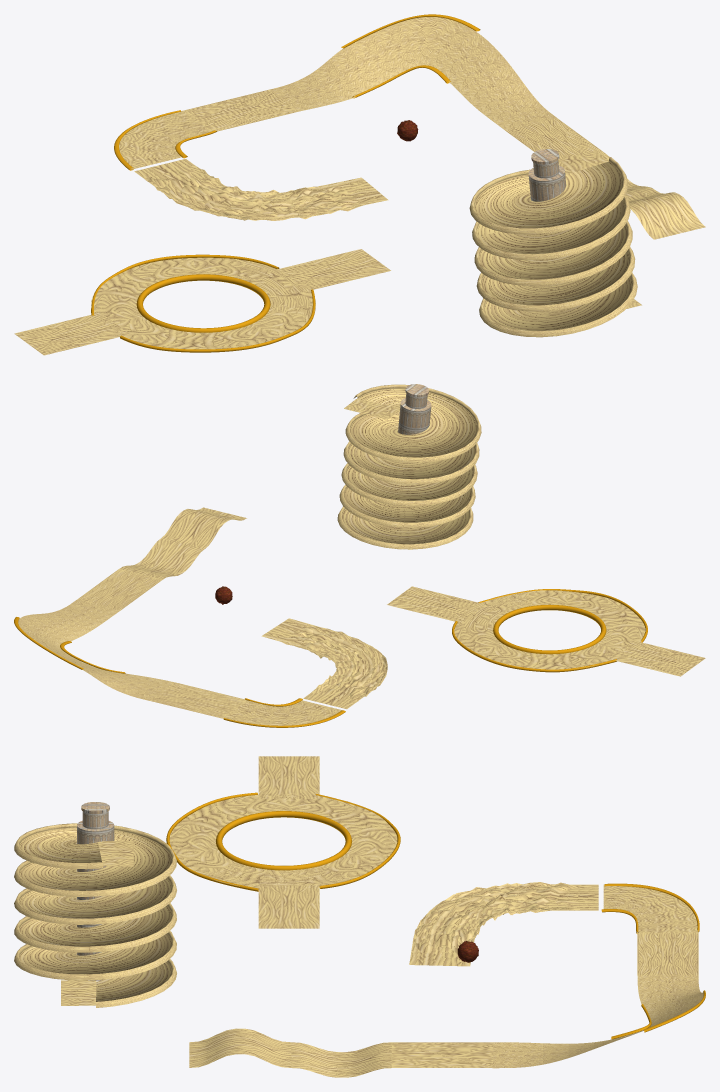
The model's file is TileSetPista.fbx.
3 views of the same model, one above another, from view 1: azimuth 30°, elevation 25°; view 2: azimuth 150°, elevation 25°; view 3: azimuth 270°, elevation 25° (orthographic). The views are drawn at different scales.
Parts seen in each view (by area): view 1: CurvaDePisaa, Rotunda, CurvaAcentuada, EstradaReta1.001, CurvaNormal, EstradaReta2, CurvaSinosoidalConvexo, EstradaReta1, TorrePisa; view 2: CurvaDePisaa, Rotunda, EstradaReta1.001, CurvaAcentuada, CurvaNormal, EstradaReta2, CurvaSinosoidalConvexo, EstradaReta1, CurvaSinosoidalConcavo, TorrePisa; view 3: CurvaDePisaa, Rotunda, EstradaReta1.001, CurvaAcentuada, CurvaNormal, CurvaSinosoidalConvexo, EstradaReta2, CurvaSinosoidalConcavo, EstradaReta1, TorrePisa.
Boxes of the visible parts, x1,y1,x2,y2 form: CurvaDePisaa: [469, 151, 641, 337]; Rotunda: [14, 249, 390, 355]; CurvaAcentuada: [270, 14, 557, 130]; EstradaReta1.001: [134, 159, 388, 220]; CurvaNormal: [114, 110, 216, 170]; EstradaReta2: [183, 89, 299, 131]; CurvaSinosoidalConvexo: [627, 190, 705, 239]; EstradaReta1: [505, 118, 606, 159]; TorrePisa: [528, 149, 566, 201]; CurvaDePisaa: [337, 384, 481, 549]; Rotunda: [387, 586, 705, 676]; EstradaReta1.001: [261, 618, 387, 709]; CurvaAcentuada: [14, 599, 173, 700]; CurvaNormal: [223, 698, 345, 727]; EstradaReta2: [149, 682, 246, 718]; CurvaSinosoidalConvexo: [161, 507, 246, 548]; EstradaReta1: [77, 569, 162, 610]; CurvaSinosoidalConcavo: [119, 538, 204, 579]; TorrePisa: [398, 384, 431, 434]; CurvaDePisaa: [14, 823, 176, 1007]; Rotunda: [166, 756, 400, 928]; EstradaReta1.001: [409, 882, 598, 966]; CurvaAcentuada: [492, 975, 705, 1068]; CurvaNormal: [601, 883, 699, 933]; CurvaSinosoidalConvexo: [189, 1028, 291, 1067]; EstradaReta2: [637, 932, 698, 975]; CurvaSinosoidalConcavo: [291, 1042, 391, 1077]; EstradaReta1: [391, 1042, 493, 1067]; TorrePisa: [77, 802, 114, 980].
Bounding box in the file's own units: 7272 × 1839 × 6802.
Materials: 5 (3 with a texture image).
